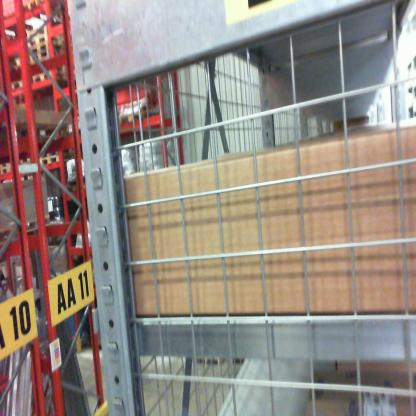pallet: (112, 108, 164, 127), (22, 20, 64, 41), (16, 1, 64, 16), (32, 69, 72, 86), (26, 41, 57, 60), (36, 150, 70, 165), (1, 158, 17, 180), (15, 155, 34, 173), (26, 39, 64, 48)
